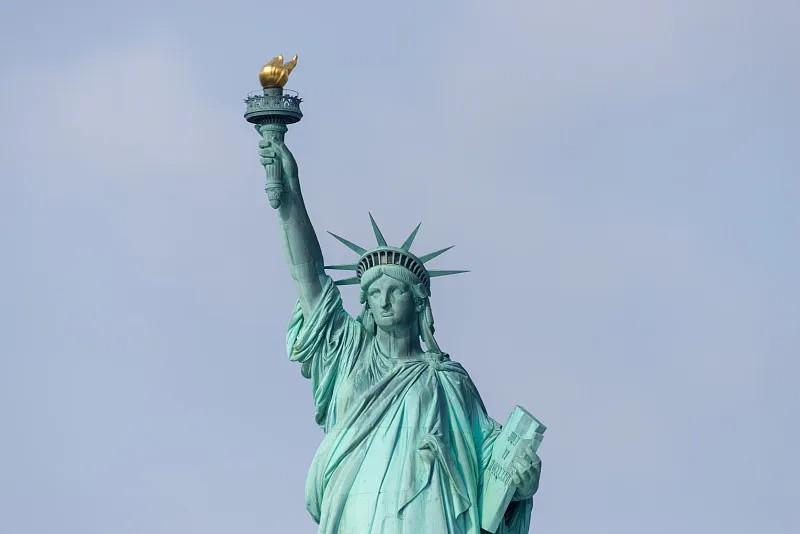SL: (242, 54, 548, 534)
